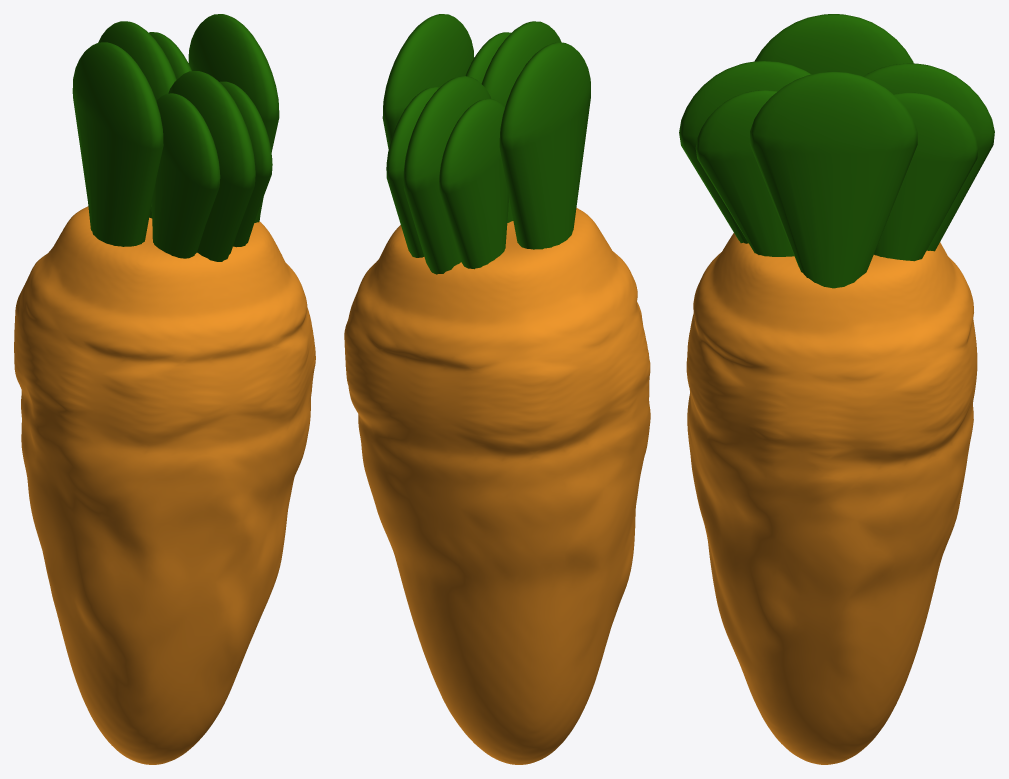
File: carrot.fbx
3 renders of one model, left to right at view 1: azimuth 30°, elevation 25°; view 2: azimuth 150°, elevation 25°; view 3: azimuth 270°, elevation 25°, orthographic.
Visible parts, largest first — view 1: base, leaves; view 2: base, leaves; view 3: base, leaves.
Part boxes in pixels (<box>): base: <box>14,206,315,764</box>; leaves: <box>72,14,279,261</box>; base: <box>344,208,650,764</box>; leaves: <box>382,14,590,274</box>; base: <box>686,233,977,764</box>; leaves: <box>679,14,994,288</box>.
Size of the model in its own units: 212 by 218 by 556.
